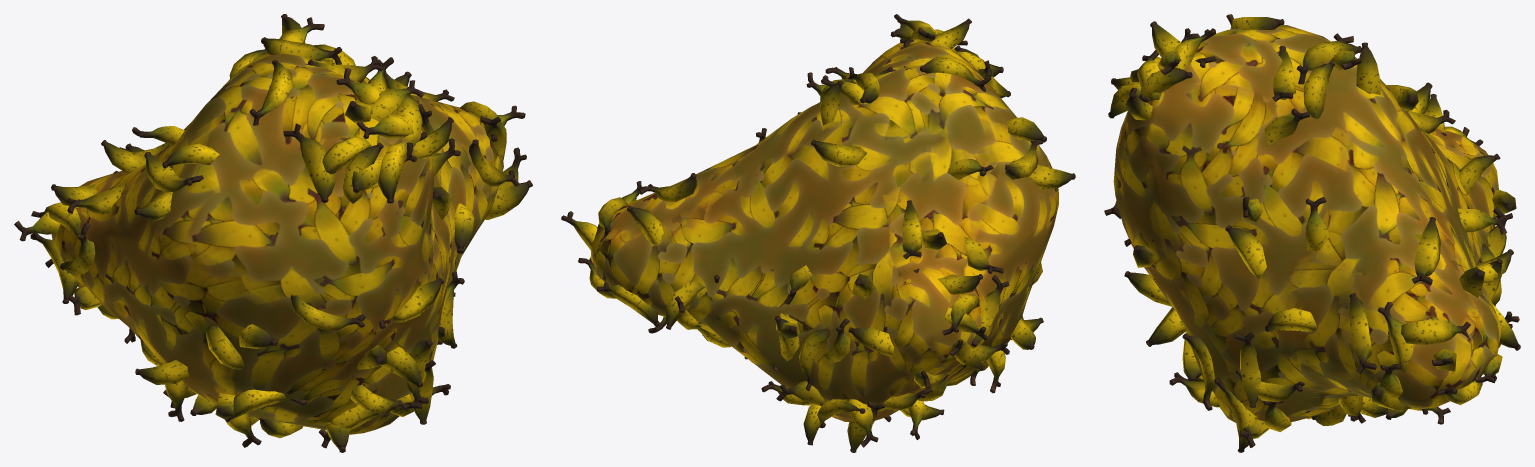
Rendered from env_building_bananapile.fbx.
3 views of the same model, side by side, from view 1: azimuth 30°, elevation 25°; view 2: azimuth 150°, elevation 25°; view 3: azimuth 270°, elevation 25° (orthographic). The views are drawn at different scales.
Parts seen in each view (by area): view 1: env_building_bananapile; view 2: env_building_bananapile; view 3: env_building_bananapile.
Part boxes in pixels (x1,y1,x2,y2): env_building_bananapile: (14, 14, 532, 452); env_building_bananapile: (561, 14, 1075, 452); env_building_bananapile: (1104, 14, 1520, 452).
Bounding box in the file's own units: 20.53 × 15.76 × 15.29.
